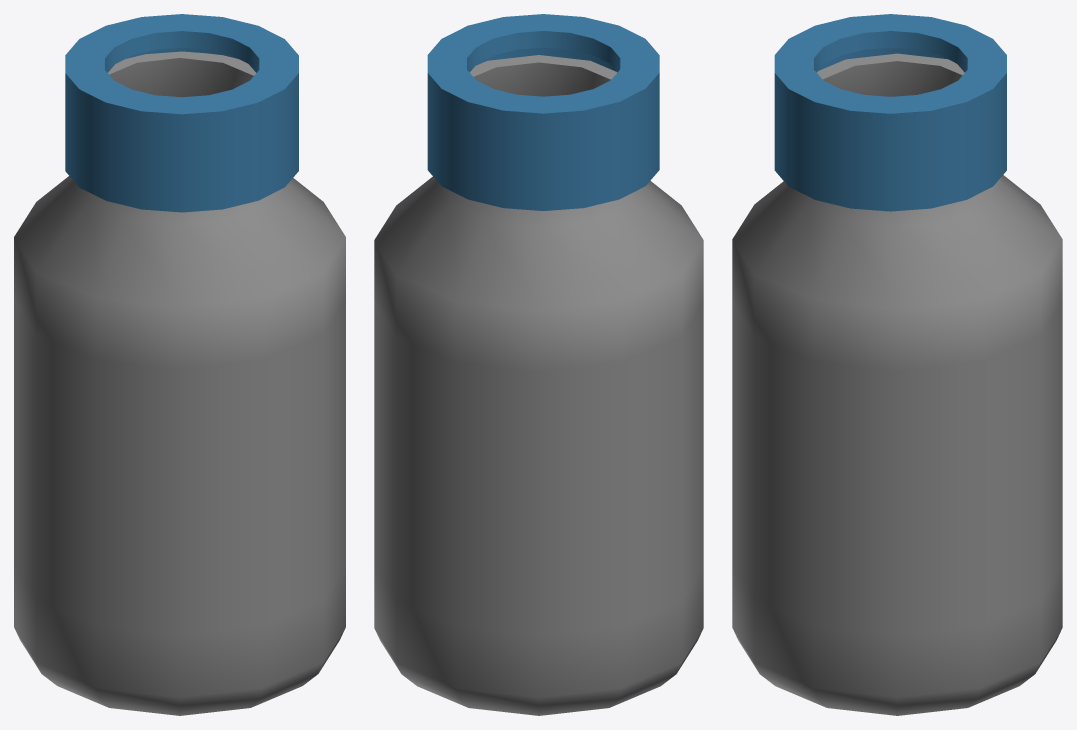
The model's file is SM_色谱瓶.FBX.
The picture shows the model from 3 angles, left to right: view 1: azimuth 30°, elevation 25°; view 2: azimuth 150°, elevation 25°; view 3: azimuth 270°, elevation 25°; orthographic projection.
Visible parts, largest first — view 1: SM_色谱瓶_瓶体, SM_色谱瓶_盖子; view 2: SM_色谱瓶_瓶体, SM_色谱瓶_盖子; view 3: SM_色谱瓶_瓶体, SM_色谱瓶_盖子.
Boxes of the visible parts, x1,y1,x2,y2 form: SM_色谱瓶_瓶体: (14,51,345,715); SM_色谱瓶_盖子: (65,14,298,212); SM_色谱瓶_瓶体: (374,55,703,715); SM_色谱瓶_盖子: (427,14,659,210); SM_色谱瓶_瓶体: (732,53,1062,715); SM_色谱瓶_盖子: (774,14,1006,211).
Bounding box in the file's own units: 12.09 × 24.11 × 12.09.
